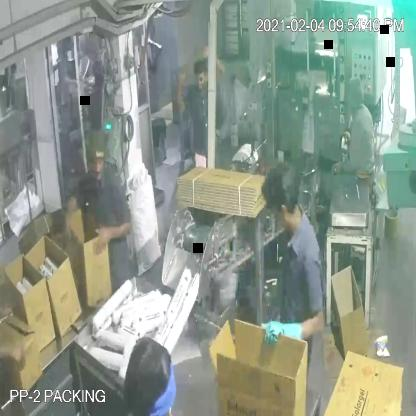glove: (258, 309, 308, 369)
no_glove: (84, 204, 145, 260), (59, 190, 85, 254), (0, 333, 32, 372), (174, 61, 195, 116), (202, 37, 223, 91), (326, 156, 355, 184)
